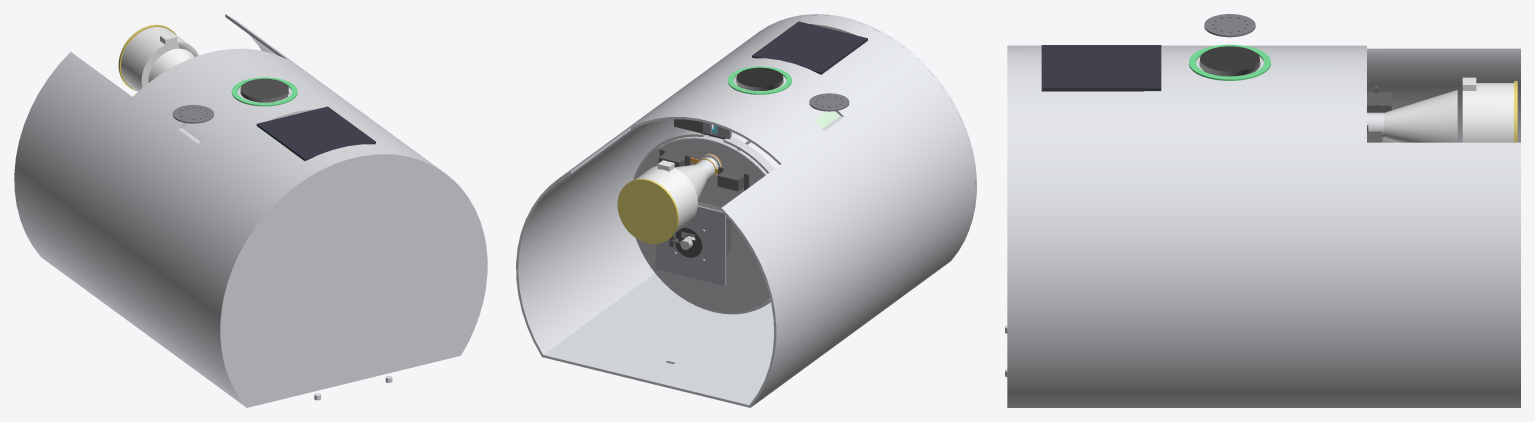
Rendered from hero_full_assembly.gltf.
3 views of the same model, side by side, from view 1: azimuth 30°, elevation 25°; view 2: azimuth 150°, elevation 25°; view 3: azimuth 270°, elevation 25° (orthographic). The views are drawn at different scales.
Visible parts, largest first — view 1: Body1 (×2), display_panel, pill_cup, button, drop_cone, speaker_grille, led_ring; view 2: Body1 (×3), base, motor_mount, display_panel, load_cell, pill_cup, dispense_sweep_containment_band, button, speaker_grille, led_ring, drop_cone, index_disk; view 3: Body1 (×3), display_panel, pill_cup, drop_cone, button, speaker_grille, led_ring.
Part boxes in pixels (bbox=[...]): Body1 (×2): bbox=[14, 14, 487, 407]; display_panel: bbox=[256, 106, 375, 160]; pill_cup: bbox=[121, 27, 198, 91]; button: bbox=[240, 78, 288, 102]; drop_cone: bbox=[148, 48, 194, 82]; speaker_grille: bbox=[172, 105, 213, 123]; led_ring: bbox=[231, 77, 297, 106]; Body1 (×3): bbox=[516, 14, 976, 407]; base: bbox=[635, 137, 769, 312]; motor_mount: bbox=[655, 205, 726, 285]; display_panel: bbox=[752, 21, 867, 74]; load_cell: bbox=[617, 178, 678, 244]; pill_cup: bbox=[635, 160, 697, 232]; dispense_sweep_containment_band: bbox=[633, 131, 774, 314]; button: bbox=[736, 67, 783, 90]; speaker_grille: bbox=[809, 93, 849, 111]; led_ring: bbox=[727, 66, 791, 94]; drop_cone: bbox=[674, 164, 708, 199]; index_disk: bbox=[675, 227, 702, 257]; Body1 (×3): bbox=[1007, 45, 1520, 407]; display_panel: bbox=[1041, 45, 1161, 90]; pill_cup: bbox=[1462, 77, 1513, 142]; drop_cone: bbox=[1384, 90, 1457, 142]; button: bbox=[1200, 46, 1259, 76]; speaker_grille: bbox=[1204, 14, 1255, 37]; led_ring: bbox=[1189, 44, 1270, 80].
Bounding box in the file's own units: 0.0112 × 0.00951 × 0.0151.
